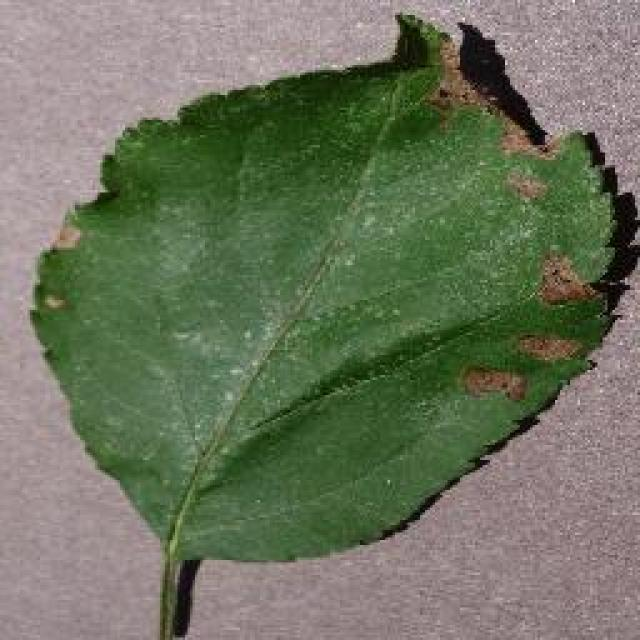apple black rot: (25, 10, 635, 638)
